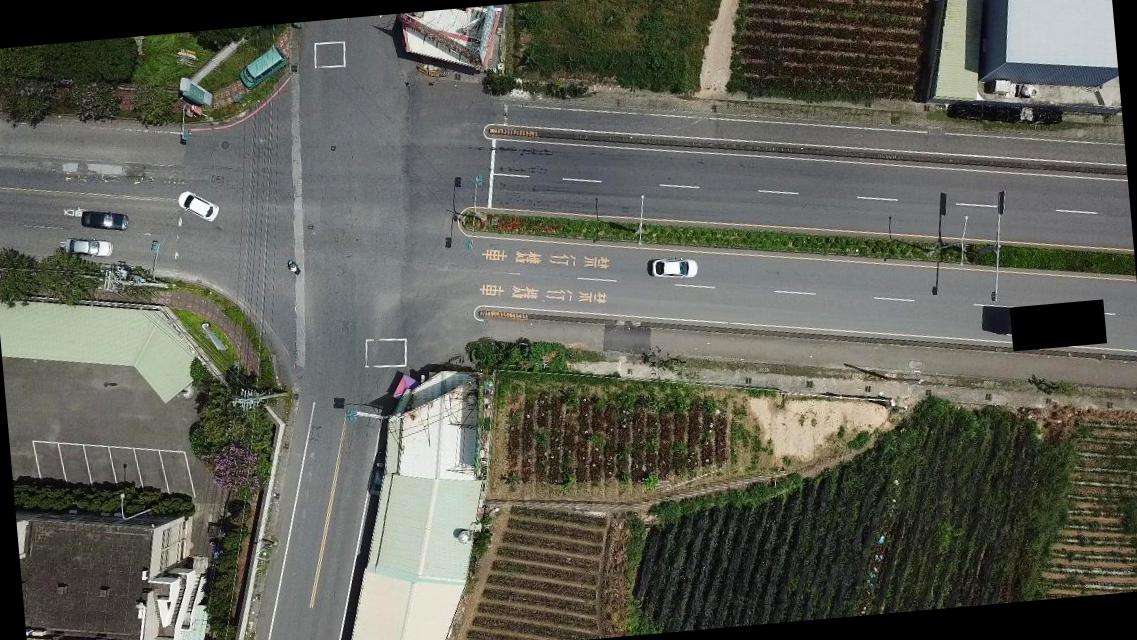vehicle: (236, 46, 288, 89), (177, 188, 219, 226), (78, 207, 128, 236), (61, 234, 112, 262), (649, 254, 699, 282)
